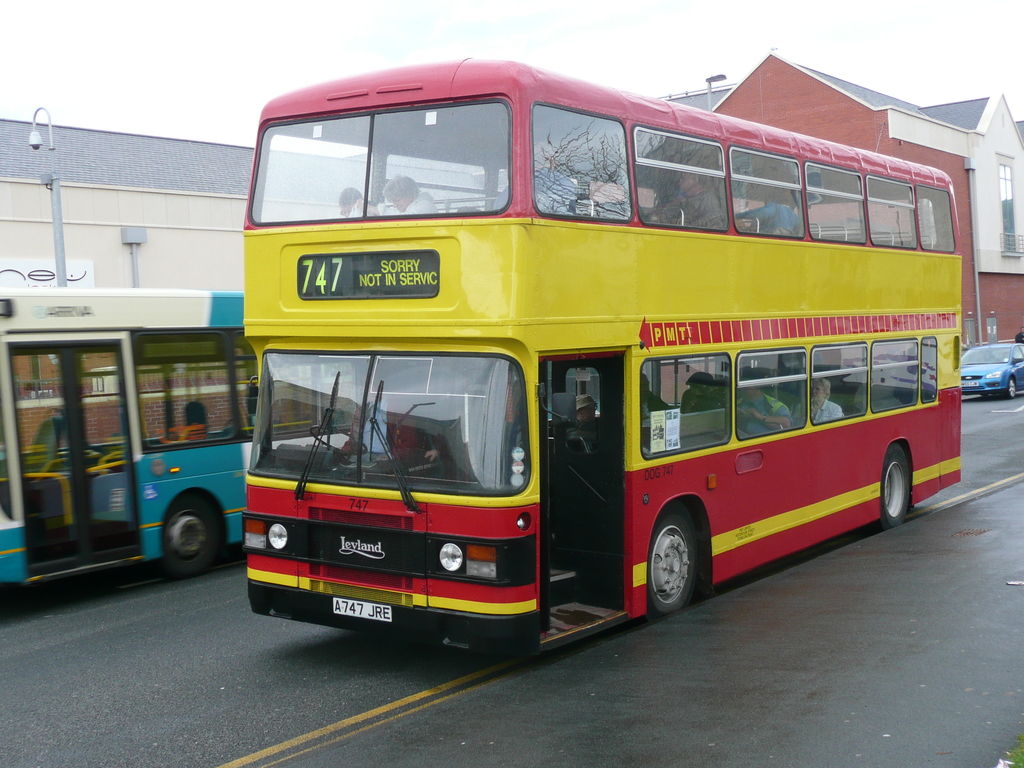Bus: (233, 59, 968, 654), (0, 282, 385, 575)
